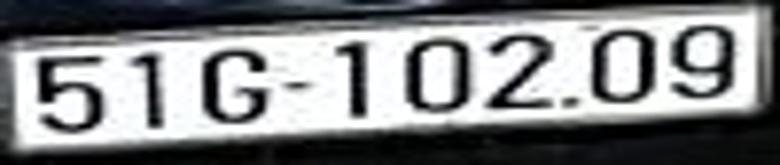-: (280, 78, 312, 96)
.: (561, 94, 579, 113)
0: (485, 29, 557, 112), (590, 27, 660, 106), (401, 37, 472, 113)
5: (34, 52, 106, 133), (331, 37, 374, 118), (129, 50, 166, 130)
9: (666, 24, 739, 103)
G: (197, 47, 272, 126)
